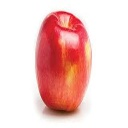apple: (35, 11, 92, 115)
